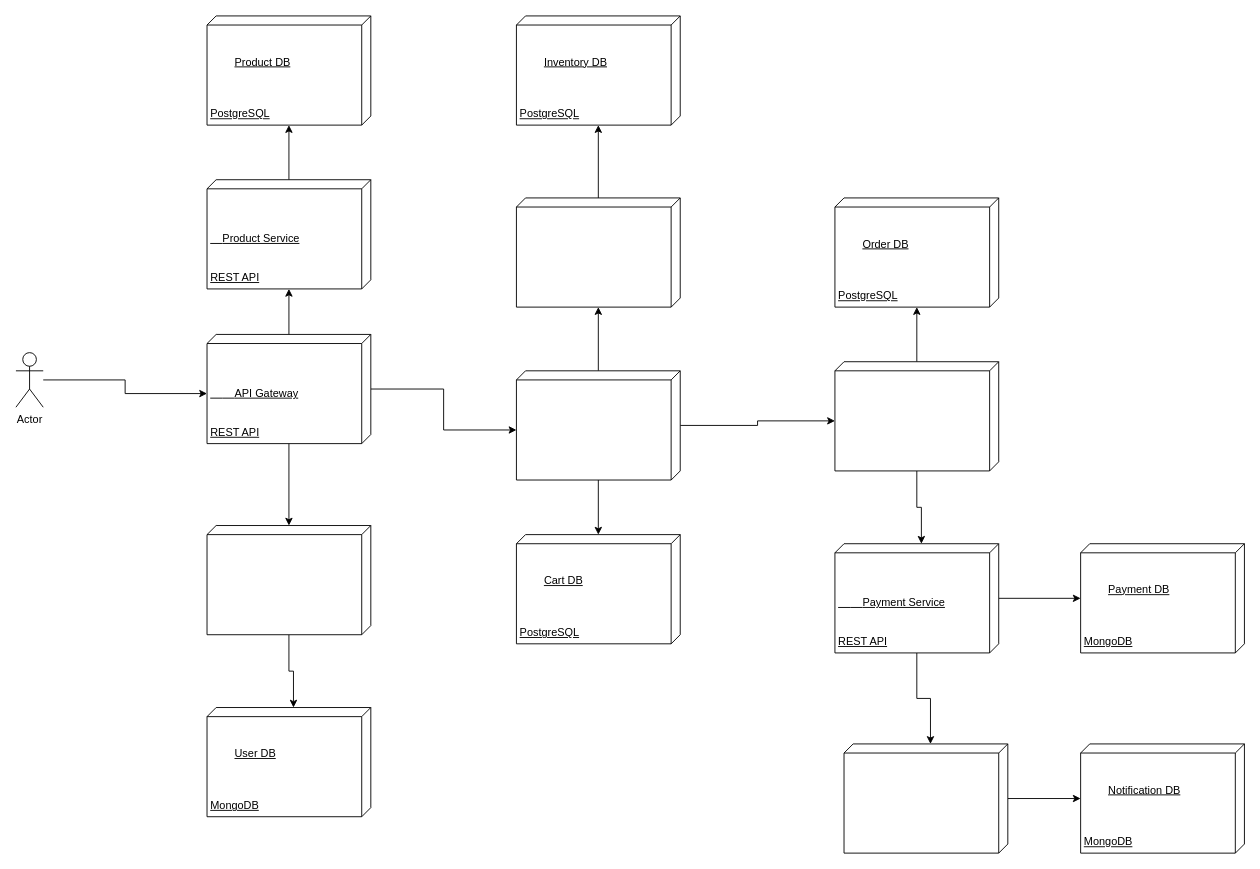
Some shapes in this 1260 by 869 pixel diagram are drawn without their labels. Each missing label, with the centre of its shape:
"Auth Service REST API" goes at point (288, 580).
"Cart Service REST API" goes at point (598, 425).
"Inventory Service REST API" goes at point (598, 252).
"Notification Service REST API" goes at point (925, 798).
"Order Service REST API" goes at point (916, 416).
